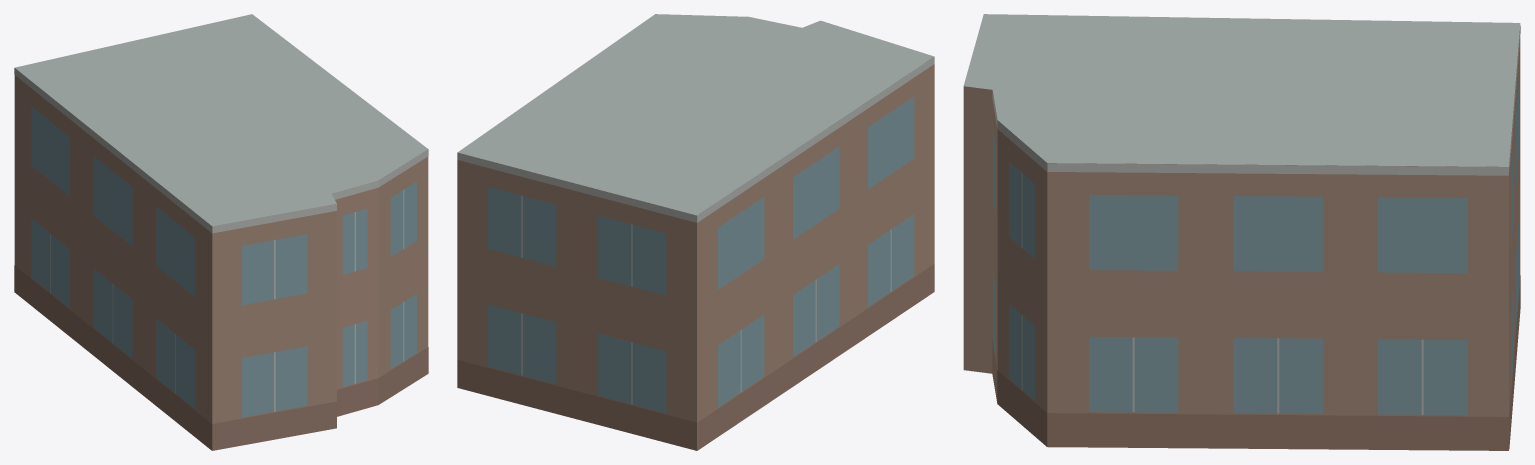
The model's file is survey-upis-33032066.glb.
The picture shows the model from 3 angles, left to right: view 1: azimuth 30°, elevation 25°; view 2: azimuth 150°, elevation 25°; view 3: azimuth 270°, elevation 25°; orthographic projection. The views are drawn at different scales.
Visible parts, largest first — view 1: survey-upis-33032066.tmp; view 2: survey-upis-33032066.tmp; view 3: survey-upis-33032066.tmp.
Boxes of the visible parts, x1,y1,x2,y2 form: survey-upis-33032066.tmp: [14, 14, 428, 450]; survey-upis-33032066.tmp: [457, 14, 934, 450]; survey-upis-33032066.tmp: [963, 14, 1520, 450].
Size of the model in its own units: 9.01 by 7.8 by 13.88.
